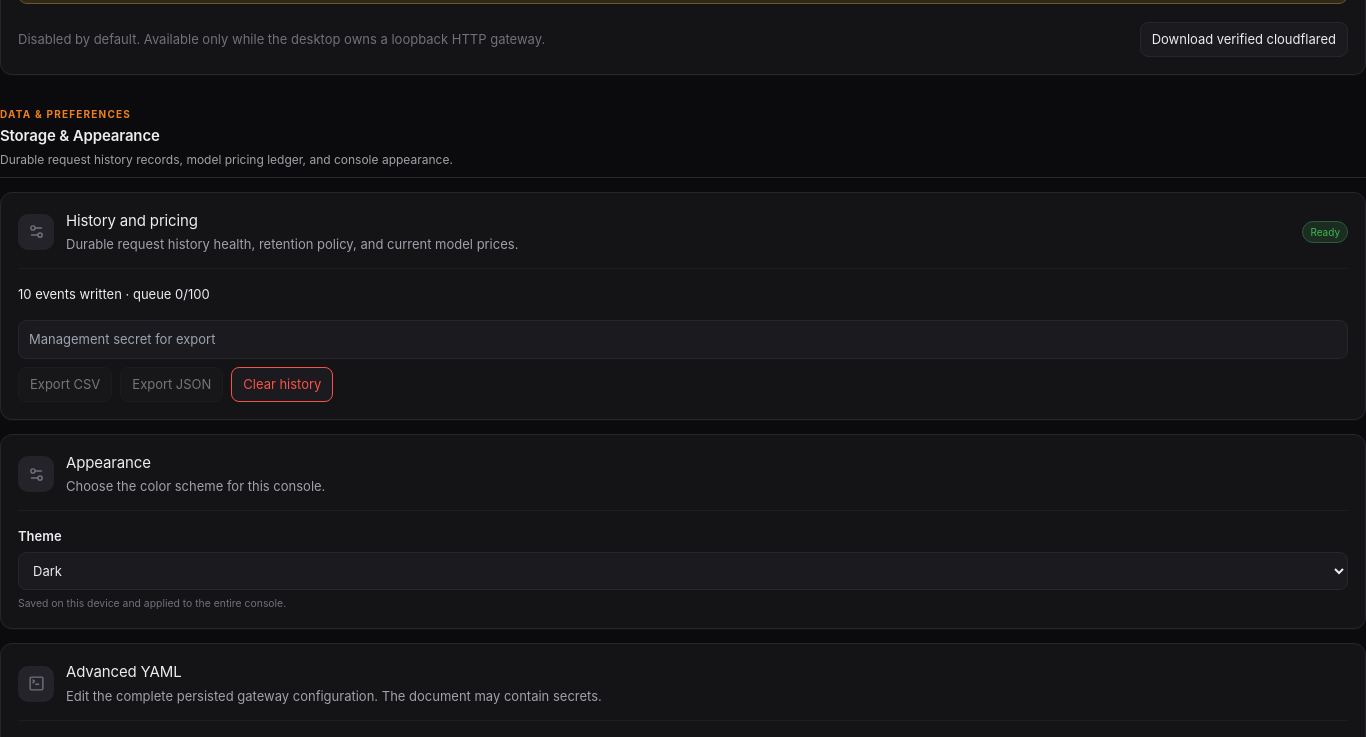
Test: clear-history dialog (M6, M7) › renders the clear failure inside the dialog and keeps it open
The width and height of the screenshot is (1366, 737).
(page scrolled)
Click the button "Clear history" at (282, 384), box top-left (231, 367), bottom-right (333, 402)
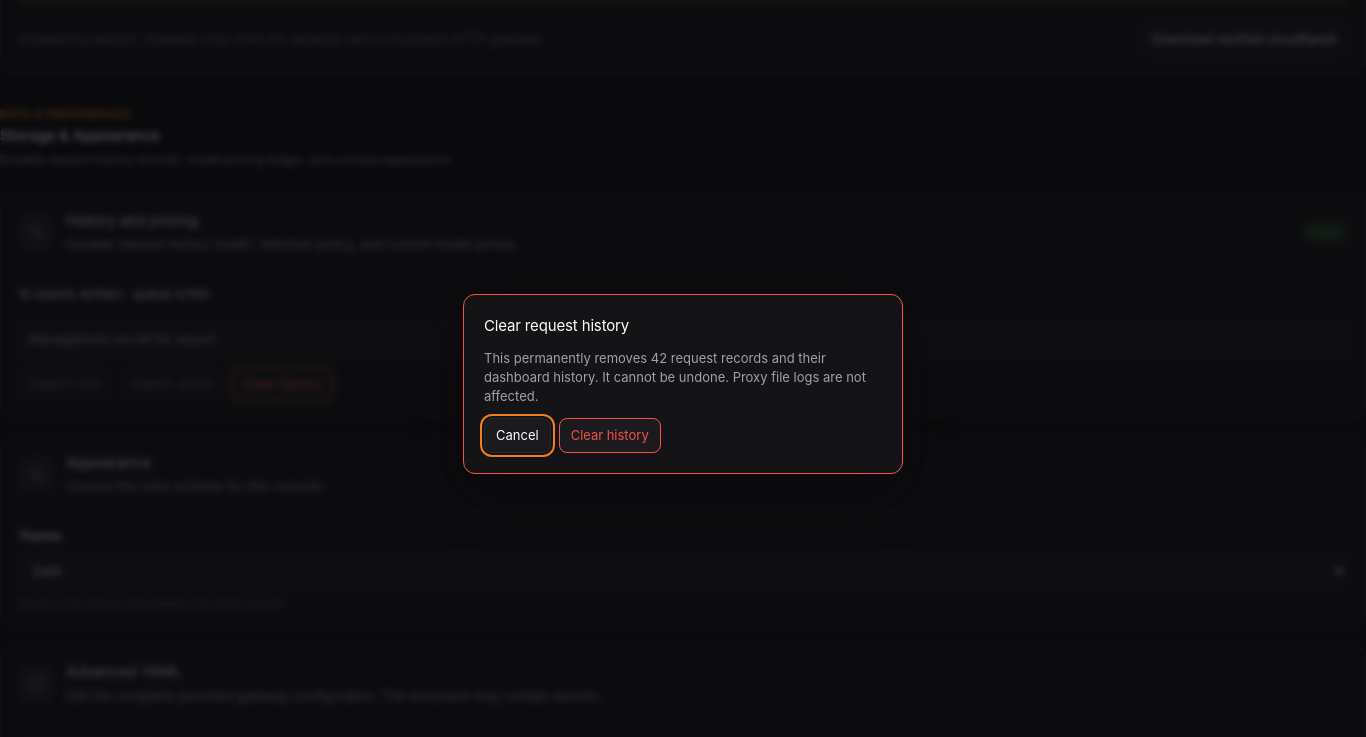
Click the button "Clear history" at (610, 435), box top-left (559, 418), bottom-right (661, 452)
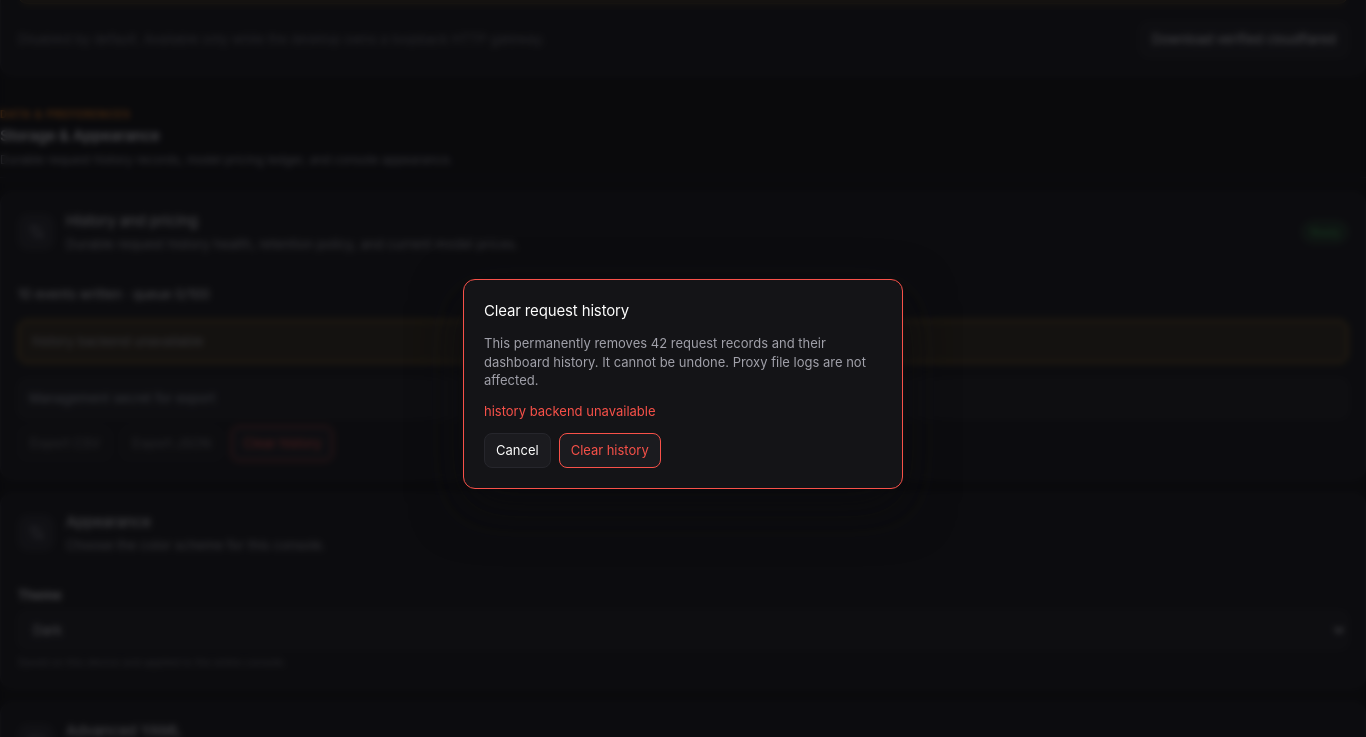
Result: the dialog is shown at top-left (463, 279), bottom-right (903, 489)
Result: the message reads "history backend unavailable" at top-left (484, 403), bottom-right (656, 419)
